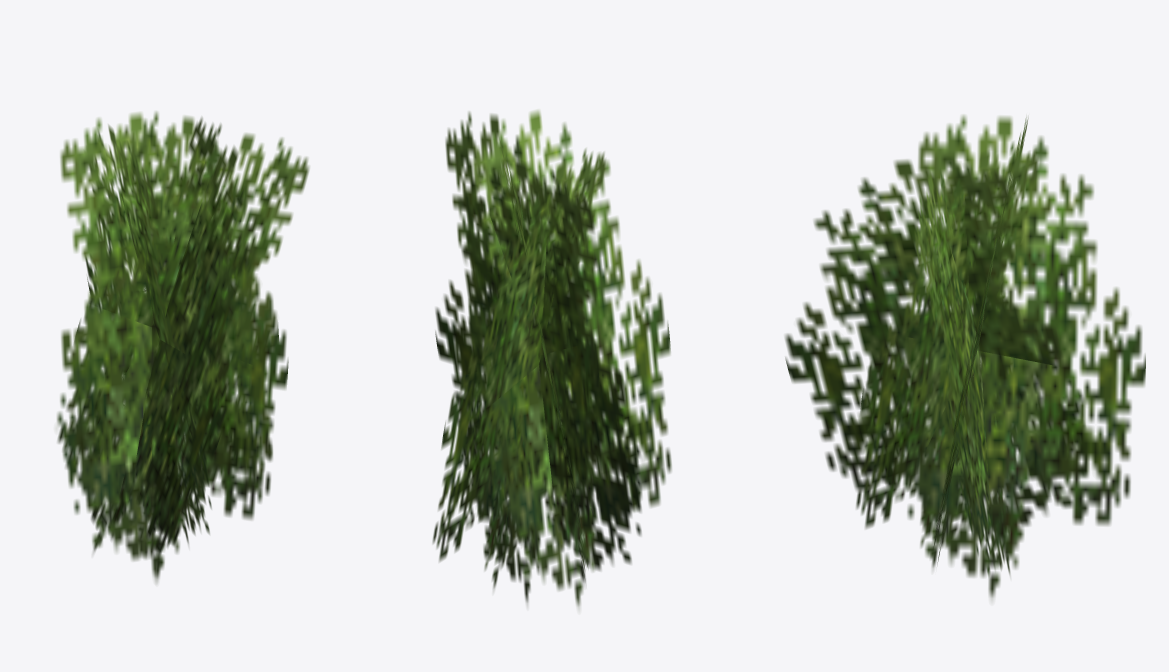
The model's file is plant-13.glb.
The picture shows the model from 3 angles, left to right: view 1: azimuth 30°, elevation 25°; view 2: azimuth 150°, elevation 25°; view 3: azimuth 270°, elevation 25°; orthographic projection. The views are drawn at different scales.
Parts seen in each view (by area): view 1: bush_me_1; view 2: bush_me_1; view 3: bush_me_1.
Boxes of the visible parts, bbox=[...] form: bush_me_1: bbox=[57, 111, 309, 583]; bush_me_1: bbox=[432, 110, 671, 607]; bush_me_1: bbox=[785, 115, 1145, 599].
Bounding box in the file's own units: 4.23 × 7.47 × 5.16.
Materials: 1 (1 with a texture image).
